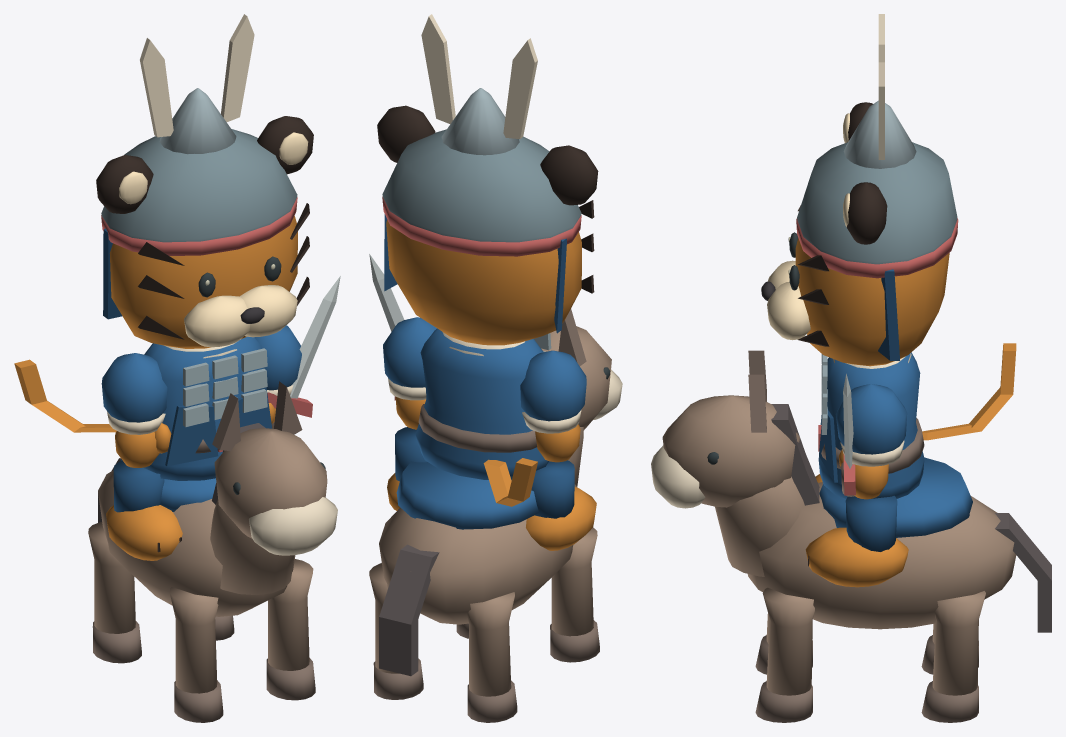
Rendered from rider.glb.
The picture shows the model from 3 angles, left to right: view 1: azimuth 30°, elevation 25°; view 2: azimuth 150°, elevation 25°; view 3: azimuth 270°, elevation 25°; orthographic projection. The views are drawn at different scales.
Visible parts, largest first — view 1: Regional helmet, Animal cheek head, Pony head, Plump pony body, Short folded tunic, Pony neck, Pony stubby leg, Puff sleeve, Pony stubby leg.001, Pony muzzle, Pony stubby leg.002, Soft animal paw (+25 smaller); view 2: Regional helmet, Animal cheek head, Plump pony body, Short folded tunic, Saddle blanket, Pony tail, Pony stubby leg.002, Puff sleeve, Pony stubby leg, Goguryeo pointed crown, Helmet brow band, Puff sleeve.001 (+24 smaller); view 3: Plump pony body, Regional helmet, Animal cheek head, Pony head, Short folded tunic, Pony neck, Saddle blanket, Pony stubby leg.001, Pony stubby leg.003, Soft animal paw.001, Puff sleeve.001, Goguryeo pointed crown (+18 smaller).
Part boxes in pixels (bbox=[...]): Regional helmet: bbox=[101, 129, 297, 242]; Animal cheek head: bbox=[109, 216, 297, 348]; Pony head: bbox=[214, 428, 327, 538]; Plump pony body: bbox=[98, 470, 295, 616]; Short folded tunic: bbox=[143, 336, 262, 480]; Pony neck: bbox=[210, 499, 294, 594]; Pony stubby leg: bbox=[169, 587, 218, 693]; Puff sleeve: bbox=[101, 353, 167, 422]; Pony stubby leg.001: bbox=[268, 559, 313, 670]; Pony muzzle: bbox=[249, 497, 337, 555]; Pony stubby leg.002: bbox=[88, 522, 135, 633]; Soft animal paw: bbox=[106, 505, 182, 560]; Regional helmet: bbox=[382, 129, 581, 242]; Animal cheek head: bbox=[386, 219, 581, 345]; Plump pony body: bbox=[379, 484, 576, 624]; Short folded tunic: bbox=[415, 328, 548, 479]; Saddle blanket: bbox=[396, 461, 538, 529]; Pony tail: bbox=[379, 544, 439, 676]; Pony stubby leg.002: bbox=[467, 592, 514, 696]; Puff sleeve: bbox=[520, 350, 586, 421]; Pony stubby leg: bbox=[551, 527, 597, 636]; Goguryeo pointed crown: bbox=[441, 88, 519, 155]; Helmet brow band: bbox=[382, 196, 581, 256]; Puff sleeve.001: bbox=[383, 317, 436, 387]; Plump pony body: bbox=[747, 482, 1016, 629]; Regional helmet: bbox=[797, 142, 957, 264]; Animal cheek head: bbox=[795, 238, 949, 366]; Pony head: bbox=[662, 395, 799, 507]; Short folded tunic: bbox=[818, 352, 924, 498]; Pony neck: bbox=[715, 476, 804, 576]; Saddle blanket: bbox=[819, 457, 972, 537]; Pony stubby leg.001: bbox=[762, 587, 814, 695]; Pony stubby leg.003: bbox=[932, 591, 985, 695]; Soft animal paw.001: bbox=[805, 527, 908, 587]; Puff sleeve.001: bbox=[835, 384, 907, 454]; Goguryeo pointed crown: bbox=[843, 100, 916, 168].
Bounding box in the file's own units: 1 × 2.51 × 1.4.
